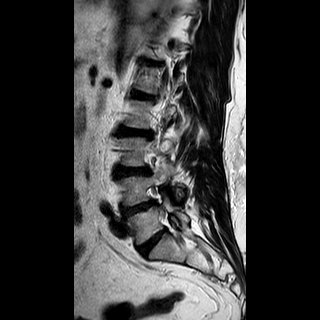LFS1: (141, 180, 168, 209)
